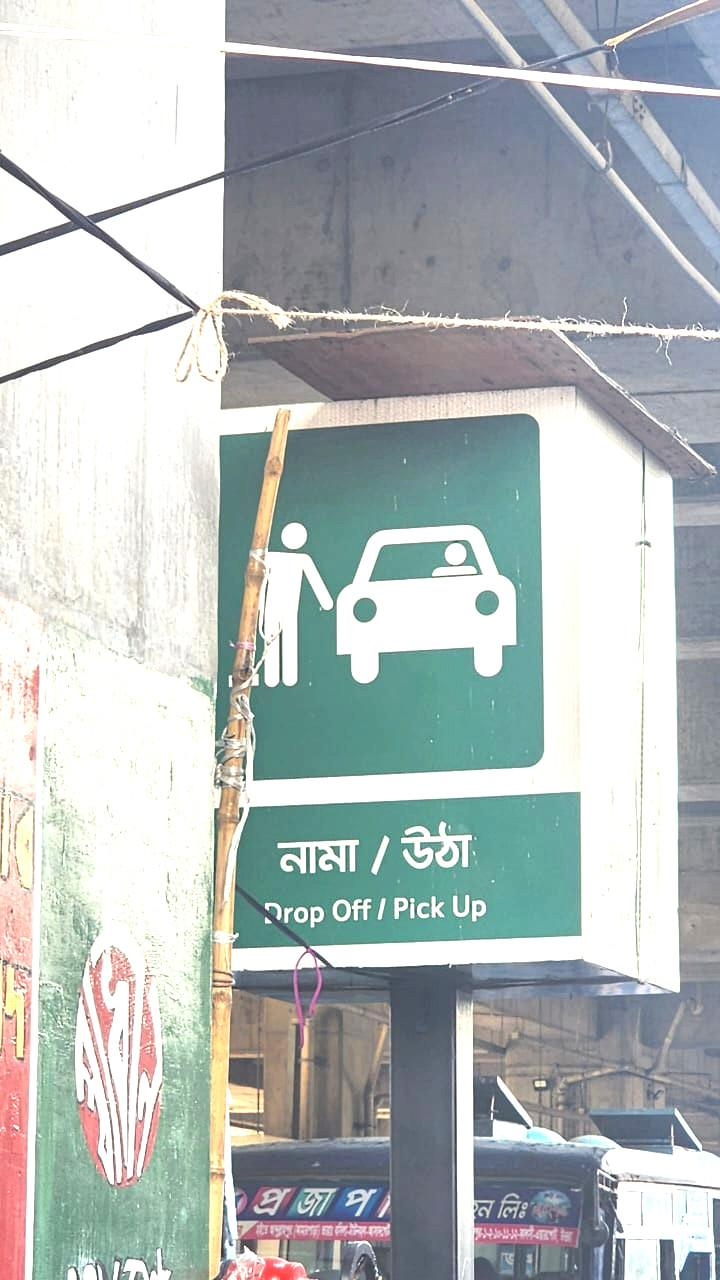Metro Dorp Up Pick up: (202, 386, 684, 994)
